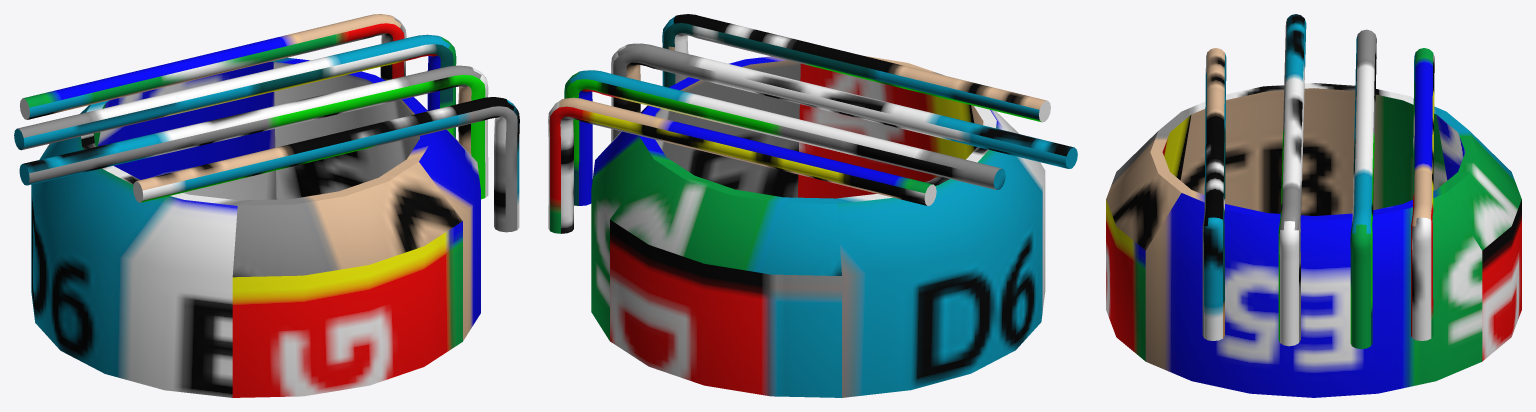
The model's file is FanCage.obj.
The picture shows the model from 3 angles, left to right: view 1: azimuth 30°, elevation 25°; view 2: azimuth 150°, elevation 25°; view 3: azimuth 270°, elevation 25°; orthographic projection. The views are drawn at different scales.
Visible parts, largest first — view 1: default; view 2: default; view 3: default.
Boxes of the visible parts, x1,y1,x2,y2 form: default: [14, 14, 519, 397]; default: [548, 14, 1077, 397]; default: [1106, 14, 1521, 397].
Bounding box in the file's own units: 6.9 × 2.89 × 5.79.
